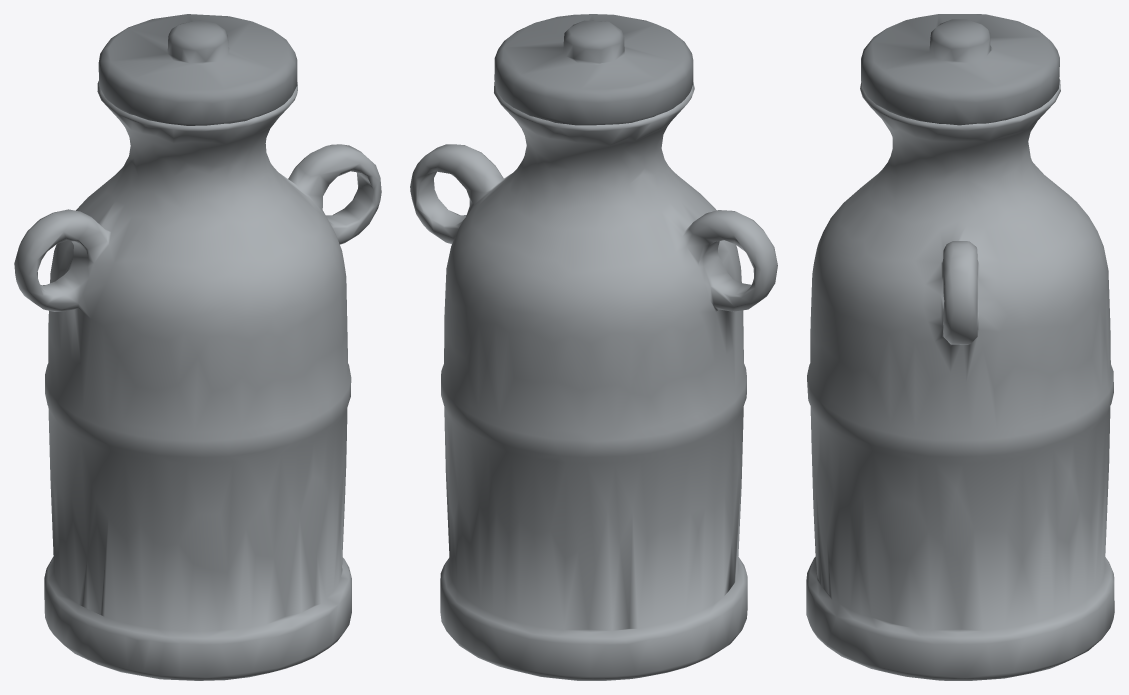
The model's file is milk_churn.glb.
The picture shows the model from 3 angles, left to right: view 1: azimuth 30°, elevation 25°; view 2: azimuth 150°, elevation 25°; view 3: azimuth 270°, elevation 25°; orthographic projection.
Parts seen in each view (by area): view 1: milk_churn_metal, milk_churn_lid; view 2: milk_churn_metal, milk_churn_lid; view 3: milk_churn_metal, milk_churn_lid.
Part boxes in pixels (left/top/right/bottom): milk_churn_metal: left=14, top=81, right=381, bottom=680; milk_churn_lid: left=98, top=14, right=297, bottom=125; milk_churn_metal: left=410, top=82, right=777, bottom=680; milk_churn_lid: left=494, top=14, right=693, bottom=125; milk_churn_metal: left=806, top=78, right=1114, bottom=680; milk_churn_lid: left=861, top=14, right=1059, bottom=125.
Bounding box in the file's own units: 0.4798 × 0.7541 × 0.3563.
Materials: 1 (1 with a texture image).
